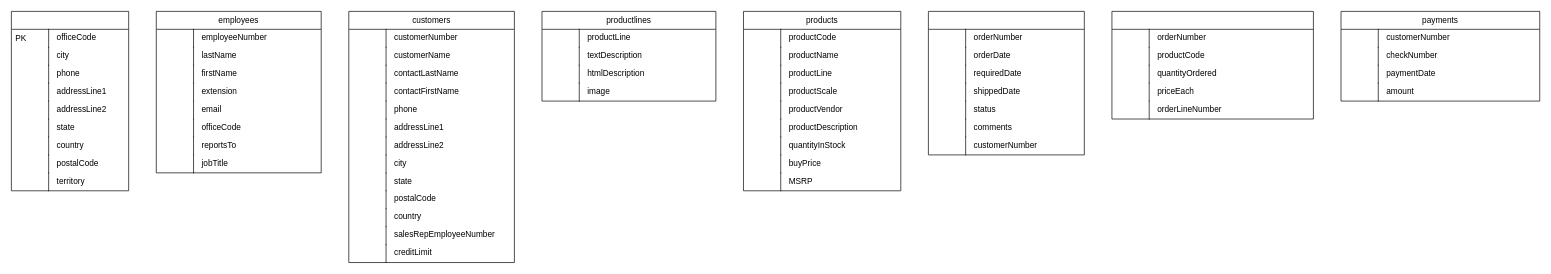
The diagram is 1551 pixels wide and 274 high, and some of its shapes have lost their labels. Each missing label, with the box of its shape:
offices: (11, 11, 129, 191)
orderdetails: (1111, 11, 1313, 119)
orders: (928, 11, 1084, 155)
